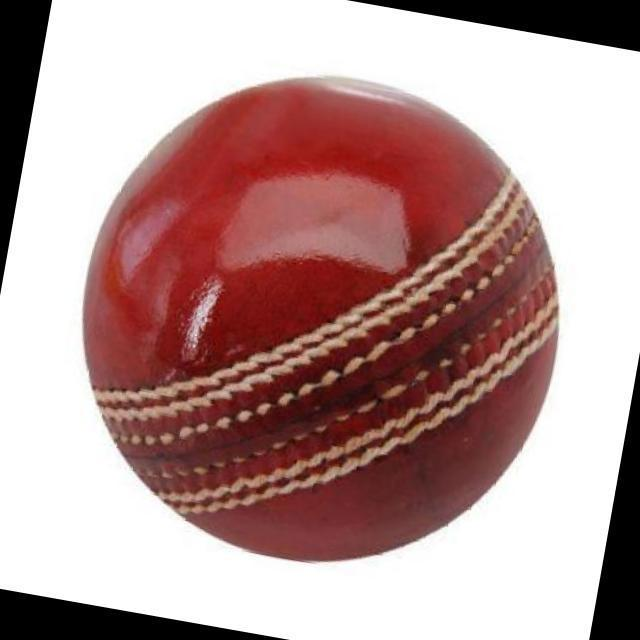-: (56, 31, 623, 582)
